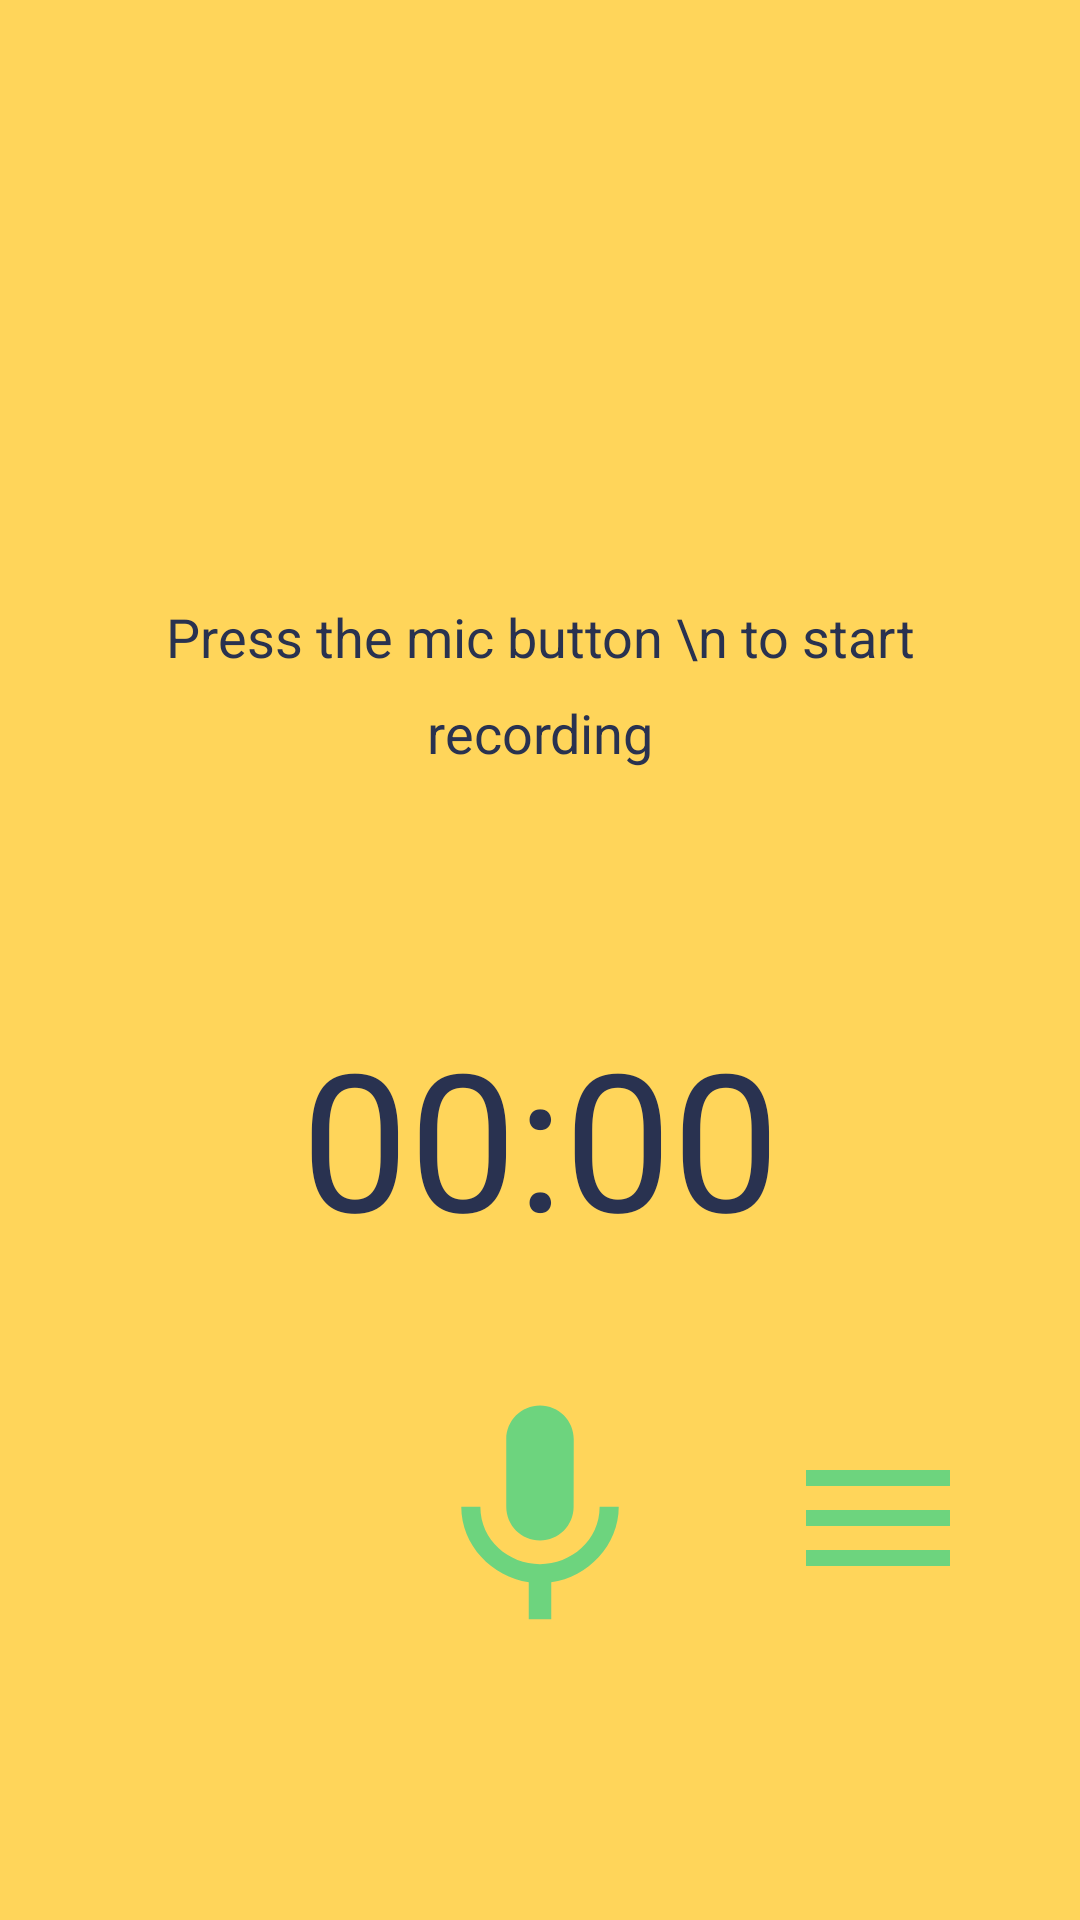

Icon click points for this 1080*1920 phone screenshot, format (x=x, y=y):
menu: (x=878, y=1518)
mic: (x=540, y=1512)
